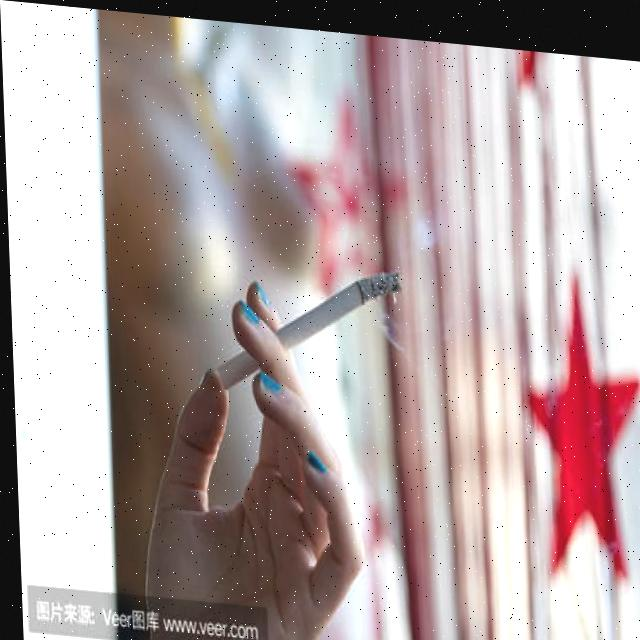cigarette: (205, 246, 402, 401)
